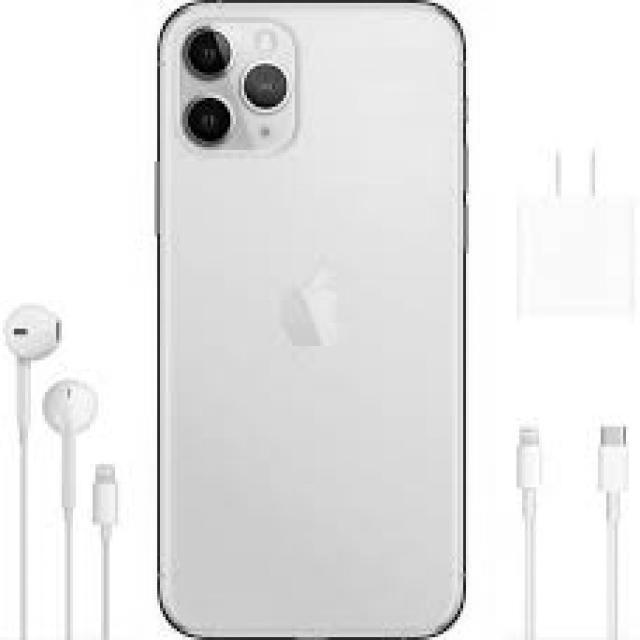fake: (148, 0, 476, 640)
